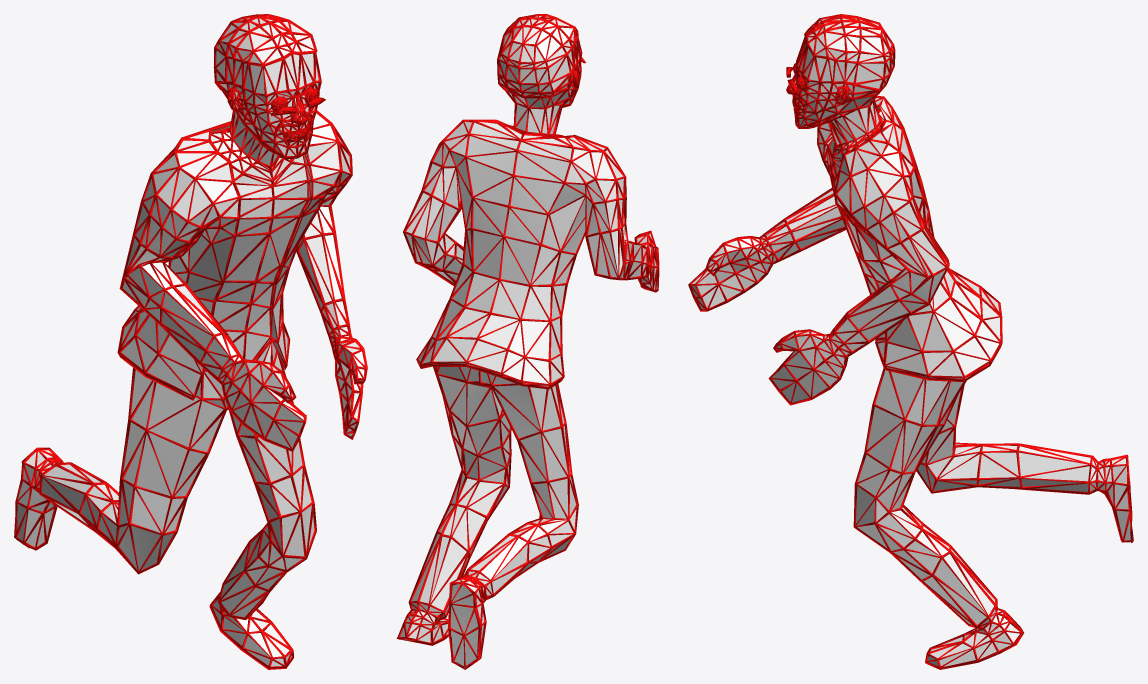
The model's file is elegantRun_000003.obj.
The picture shows the model from 3 angles, left to right: view 1: azimuth 30°, elevation 25°; view 2: azimuth 150°, elevation 25°; view 3: azimuth 270°, elevation 25°; orthographic projection. The views are drawn at different scales.
Parts seen in each view (by area): view 1: BaseHuman_Cylinder.002; view 2: BaseHuman_Cylinder.002; view 3: BaseHuman_Cylinder.002.
Boxes of the visible parts, box(x1,y1,x2,y2) form: BaseHuman_Cylinder.002: box(14, 14, 367, 669); BaseHuman_Cylinder.002: box(396, 14, 659, 669); BaseHuman_Cylinder.002: box(688, 14, 1133, 669).
Bounding box in the file's own units: 1.55 × 4.5 × 2.95.
